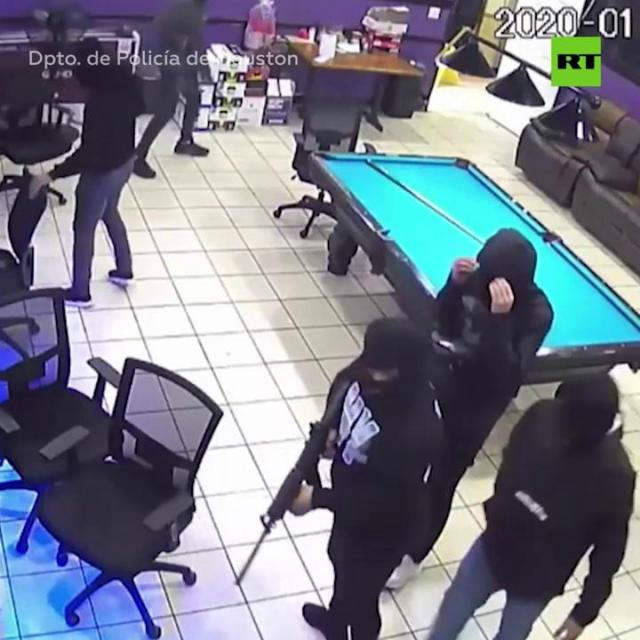heavy-weapon: (227, 369, 360, 597)
